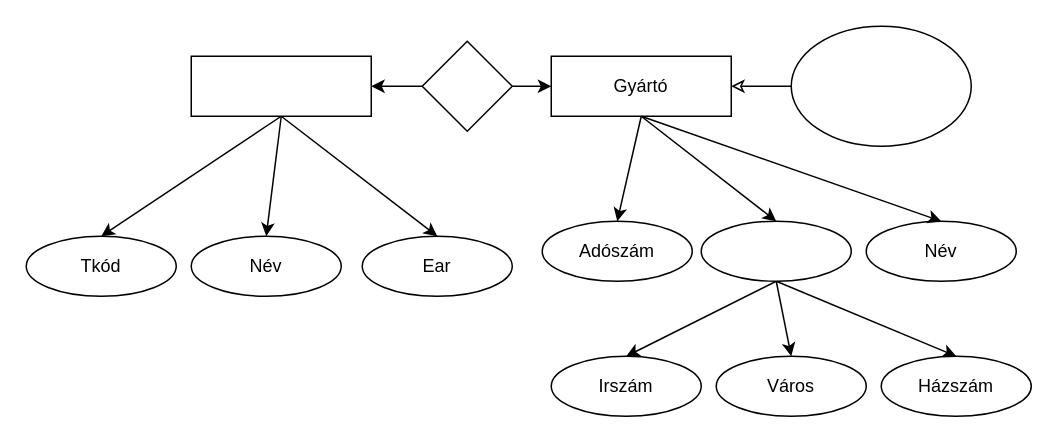
The diagram is 1058 pixels wide and 443 high, and some of its shapes have lost their labels. The centre of each missing label's shape, as x and y in pixels:
"Postacím" belongs at pixel 775 250.
"T-GY" belongs at pixel 466 85.
"Telephely" belongs at pixel 880 85.
"Termék" belongs at pixel 280 85.
